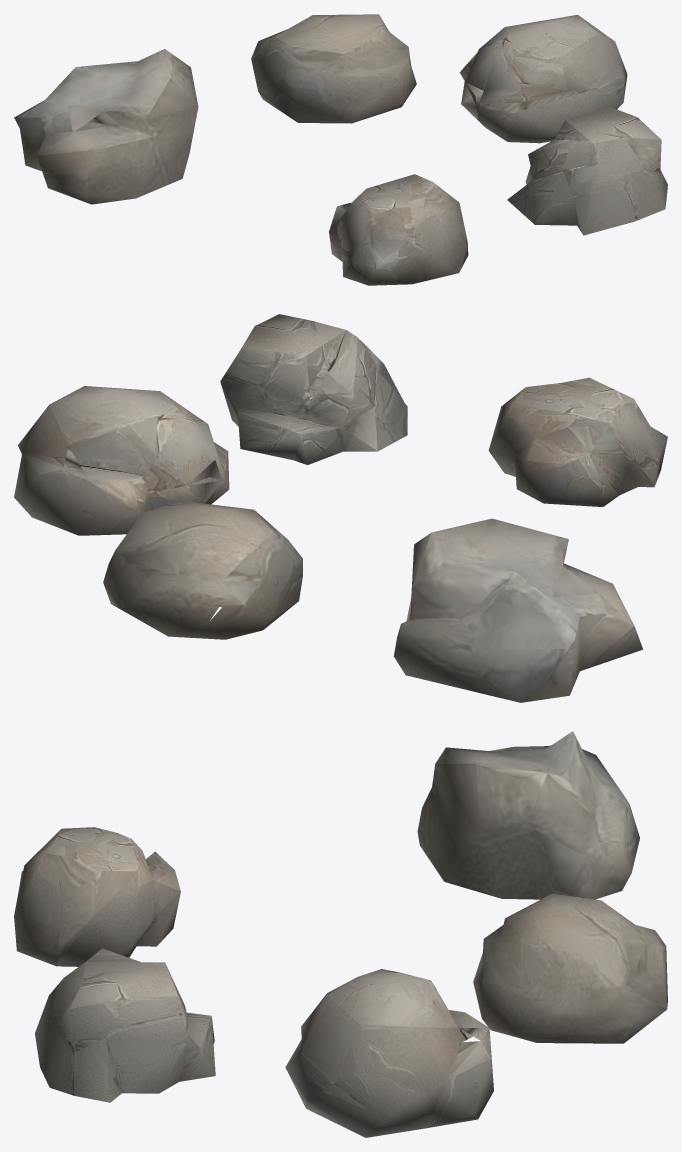
Rendered from cliff_scatter.gltf.
The picture shows the model from 3 angles, top to bottom: view 1: azimuth 30°, elevation 25°; view 2: azimuth 150°, elevation 25°; view 3: azimuth 270°, elevation 25°; orthographic projection. The views are drawn at different scales.
Visible parts, largest first — view 1: cliff_scatter; view 2: cliff_scatter; view 3: cliff_scatter.
Boxes of the visible parts, x1,y1,x2,y2 form: cliff_scatter: (14, 14, 667, 285); cliff_scatter: (14, 314, 667, 702); cliff_scatter: (14, 731, 667, 1137).
Size of the model in its own units: 1.17 by 0.195 by 0.94.
Materials: 1 (1 with a texture image).
